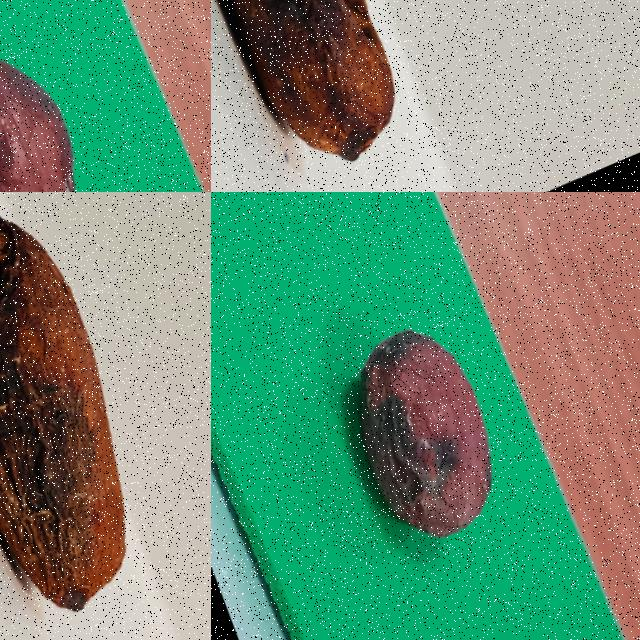Fine_cocoabeans: (233, 233, 612, 639), (0, 192, 210, 639), (211, 0, 495, 191), (0, 0, 209, 191)
